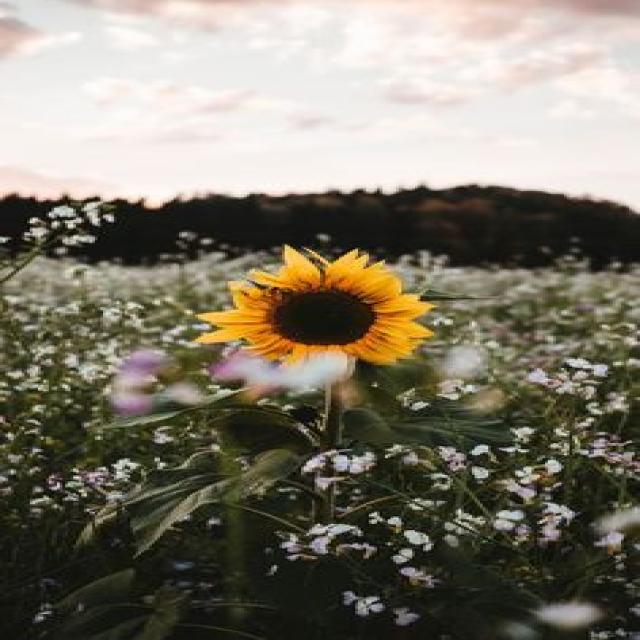sunflower: (179, 242, 447, 380)
